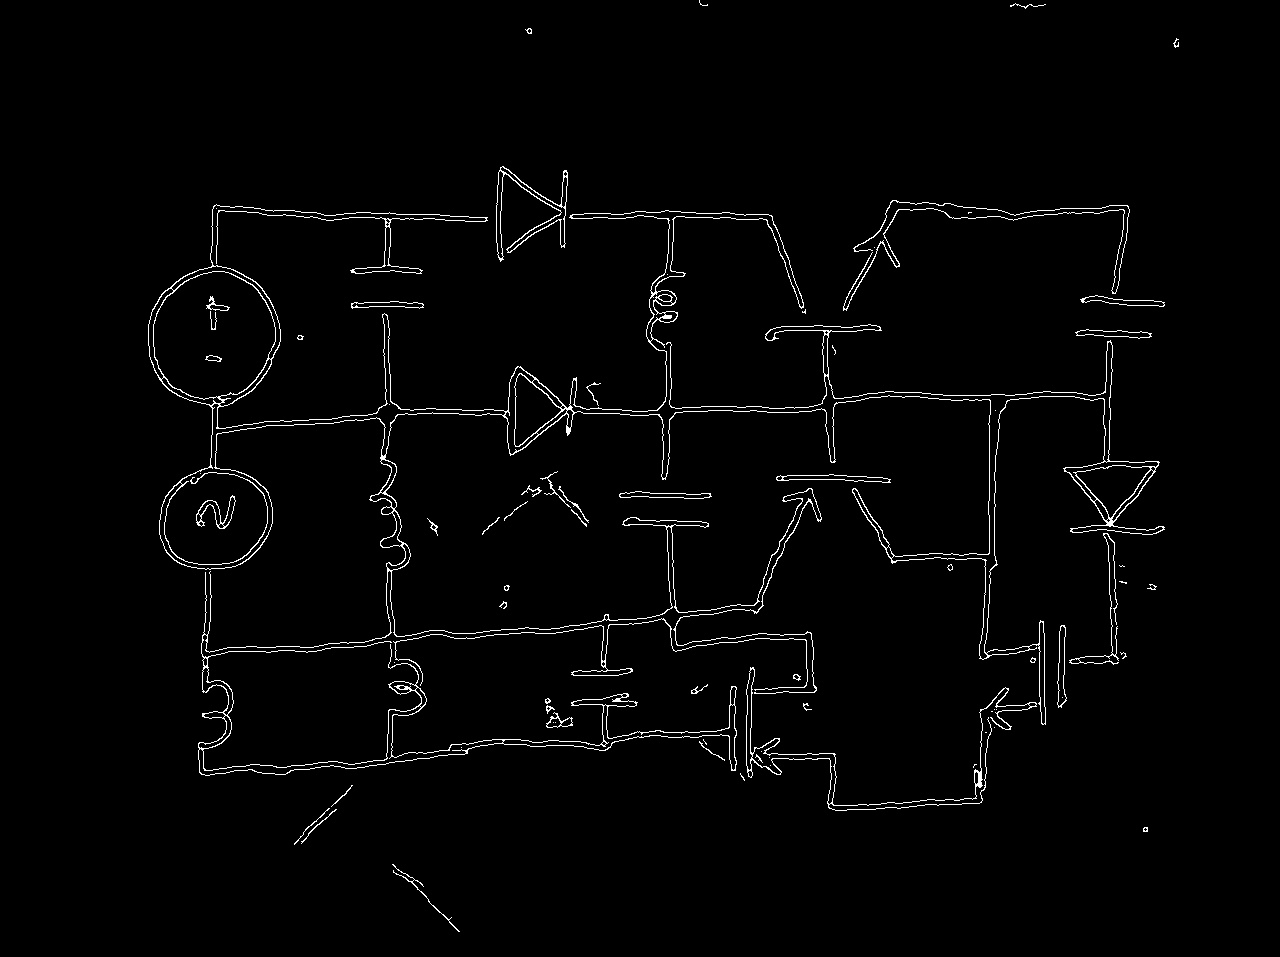capacitor: (610, 460, 716, 541), (1067, 279, 1170, 356), (345, 249, 432, 338), (567, 650, 642, 726)
diode: (463, 158, 595, 269), (1057, 443, 1173, 553), (482, 358, 595, 462)
inductor: (364, 438, 415, 595), (641, 250, 691, 375), (188, 665, 236, 767), (379, 648, 431, 738)
signal: (155, 455, 278, 587)
voltage: (145, 243, 283, 419)
